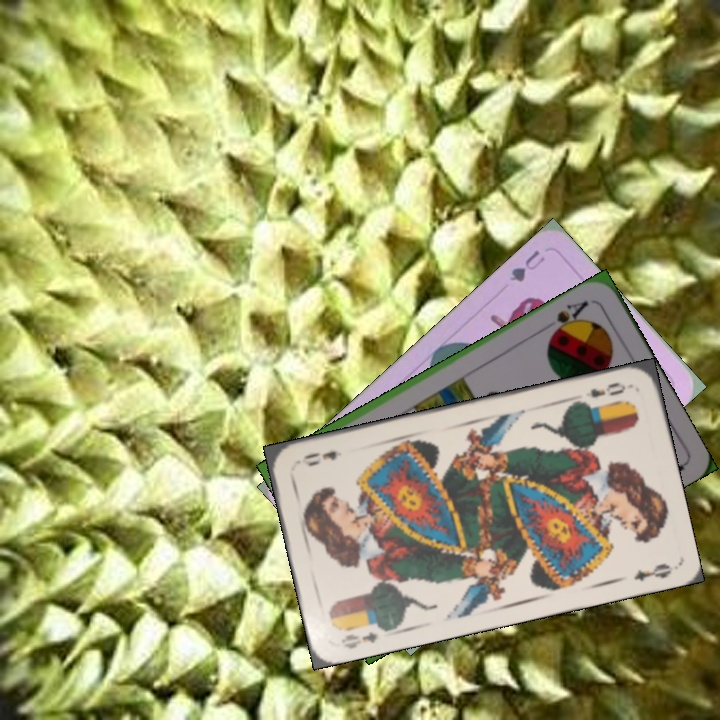EO: (576, 378, 629, 408), (337, 627, 380, 652)
GU: (505, 245, 548, 285)
SA: (546, 297, 591, 339)
